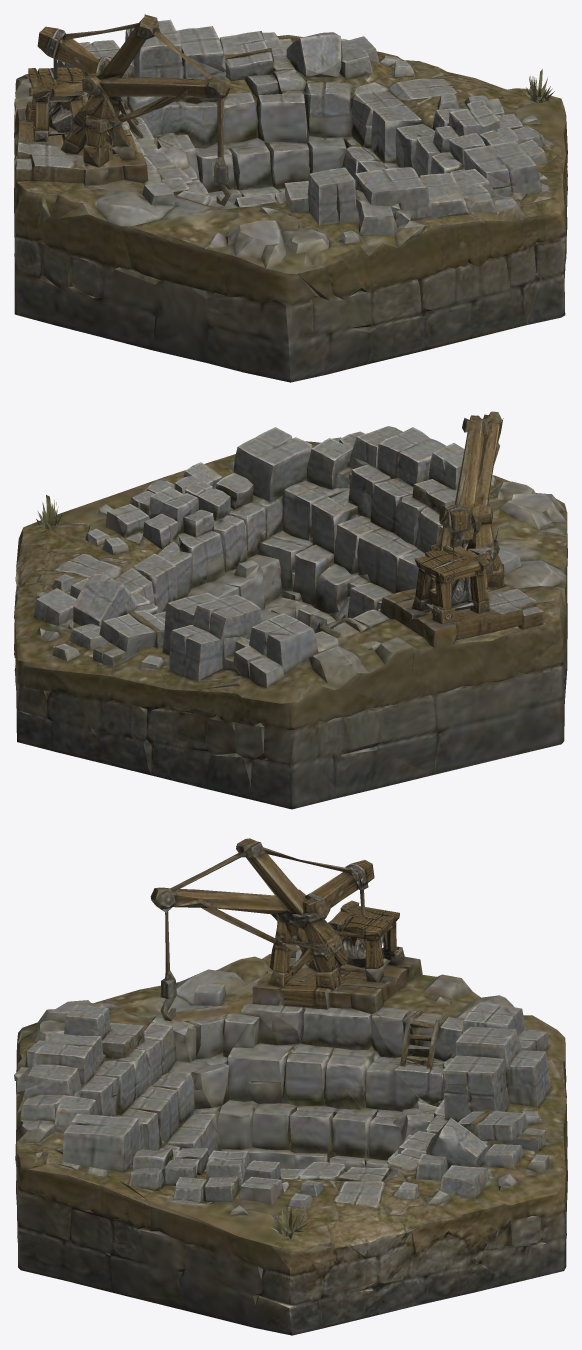
Rendered from quarry.glb.
The picture shows the model from 3 angles, top to bottom: view 1: azimuth 30°, elevation 25°; view 2: azimuth 150°, elevation 25°; view 3: azimuth 270°, elevation 25°; orthographic projection.
Bounding box in the file's own units: 2.37 × 1.22 × 2.09.
1 material, 1 textured.
